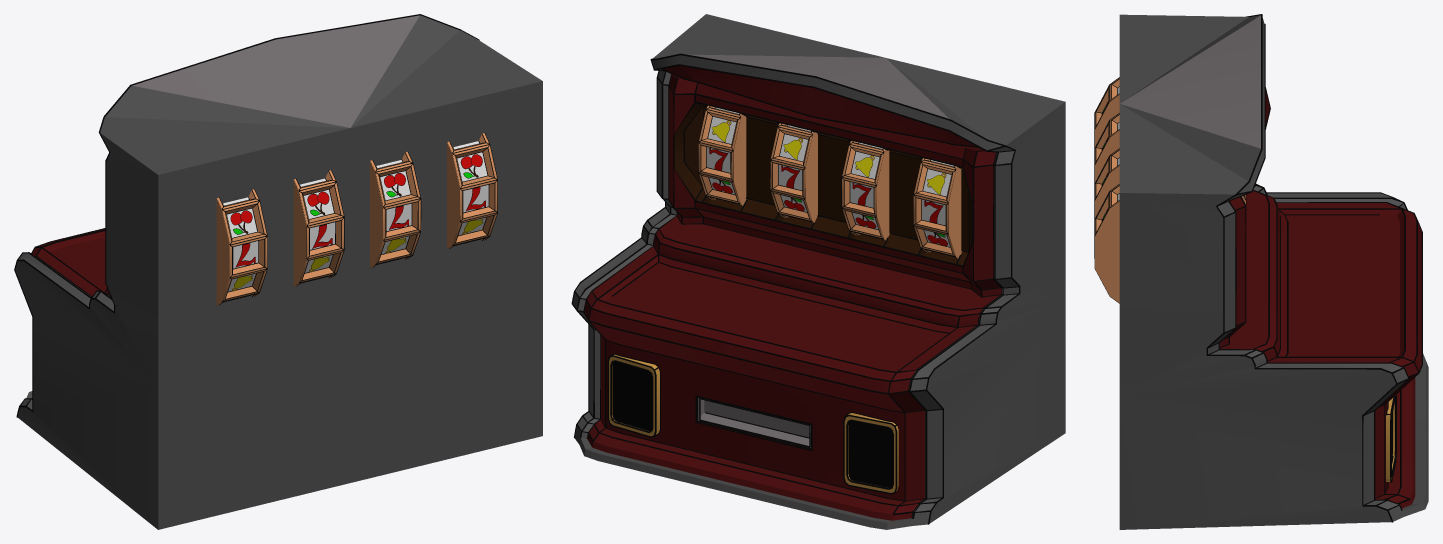
Rendered from SlotmachineFbx.fbx.
3 renders of one model, left to right at view 1: azimuth 30°, elevation 25°; view 2: azimuth 150°, elevation 25°; view 3: azimuth 270°, elevation 25°, orthographic. The views are drawn at different scales.
Parts seen in each view (by area): view 1: Cube.003, Wheel1, Wheel2, Wheel3, Wheel4; view 2: Cube.003, Wheel1, Wheel4, Wheel2, Wheel3; view 3: Cube.003, Wheel4, Wheel3, Wheel1, Wheel2.
Boxes of the visible parts, x1,y1,x2,y2 form: Cube.003: (14,14,542,529); Wheel1: (216,189,267,305); Wheel2: (293,170,344,286); Wheel3: (370,151,421,267); Wheel4: (447,132,497,249); Cube.003: (571,14,1065,529); Wheel1: (913,158,961,259); Wheel4: (698,105,746,206); Wheel2: (841,141,889,241); Wheel3: (770,123,817,222); Cube.003: (1119,14,1428,529); Wheel4: (1094,184,1119,303); Wheel3: (1094,148,1246,218); Wheel1: (1094,77,1119,147); Wheel2: (1094,113,1119,183).
Size of the model in its own units: 1502 by 1455 by 1189.
